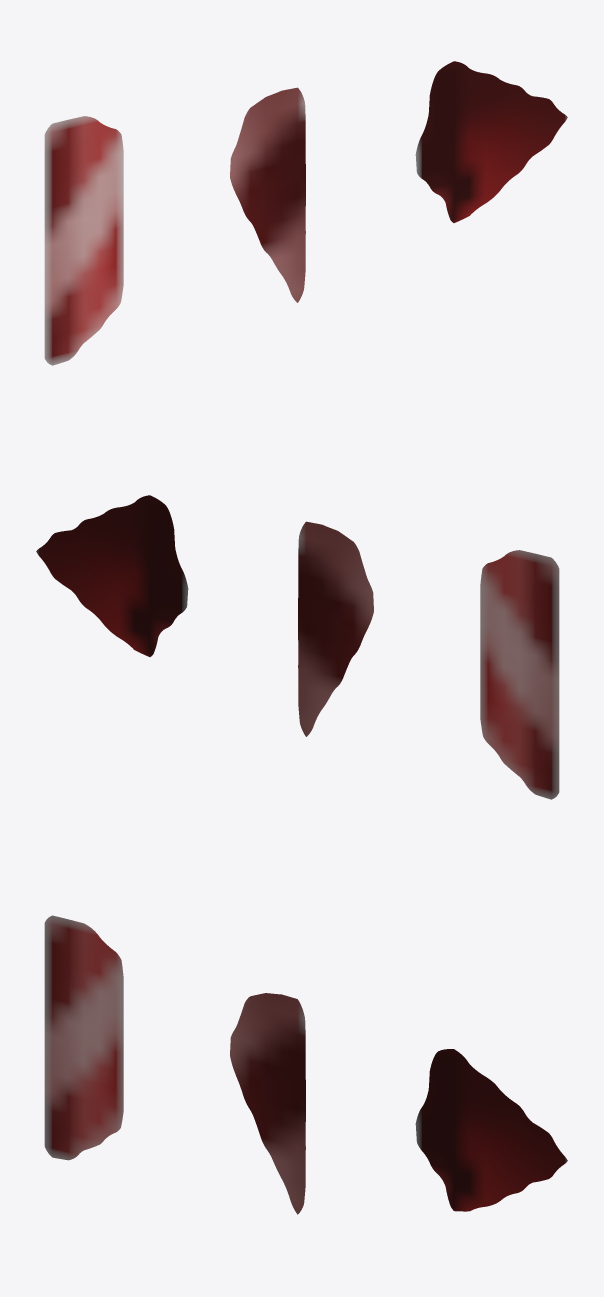
File: FW pieces.FBX
The picture shows the model from 3 angles, top to bottom: view 1: azimuth 30°, elevation 25°; view 2: azimuth 150°, elevation 25°; view 3: azimuth 330°, elevation 25°; orthographic projection.
Parts seen in each view (by area): view 1: FW Piece 2, FW piece 3, FW piece 1; view 2: FW Piece 2, FW piece 3, FW piece 1; view 3: FW Piece 2, FW piece 3, FW piece 1.
Part boxes in pixels (bbox=[...]): FW Piece 2: bbox=[44, 116, 123, 365]; FW piece 3: bbox=[415, 61, 567, 222]; FW piece 1: bbox=[230, 87, 305, 302]; FW Piece 2: bbox=[480, 550, 559, 799]; FW piece 3: bbox=[36, 495, 188, 656]; FW piece 1: bbox=[298, 521, 373, 736]; FW Piece 2: bbox=[44, 915, 123, 1160]; FW piece 3: bbox=[415, 1049, 567, 1211]; FW piece 1: bbox=[230, 993, 305, 1214].
Size of the model in its own units: 69.11 by 1.4e-05 by 36.43.
